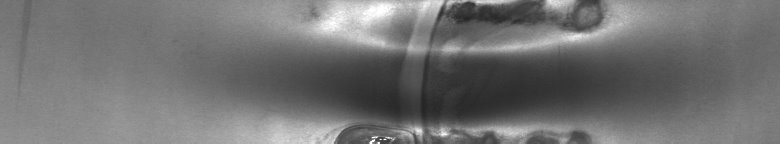ke: (305, 4, 623, 136)
